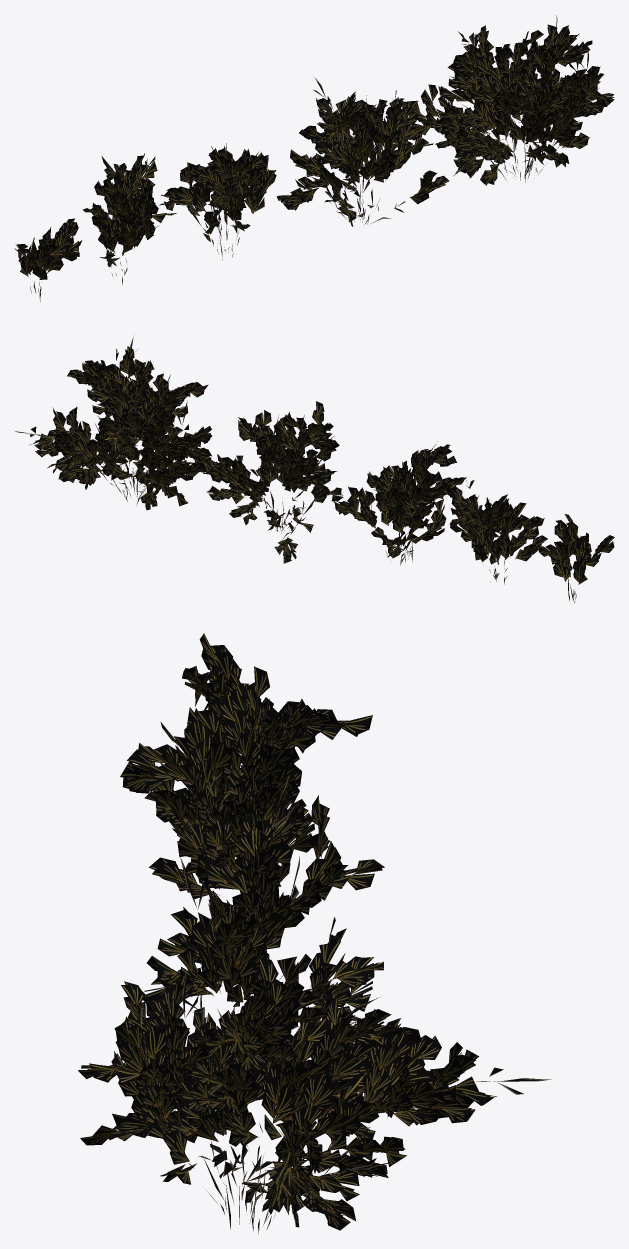
Rendered from wild_rooibos_bush.fbx.
3 renders of one model, top to bottom at view 1: azimuth 30°, elevation 25°; view 2: azimuth 150°, elevation 25°; view 3: azimuth 270°, elevation 25°, orthographic. The views are drawn at different scales.
Visible parts, largest first — view 1: wild_rooibos_bush; view 2: wild_rooibos_bush; view 3: wild_rooibos_bush.
Part boxes in pixels (x1,y1,x2,y2): wild_rooibos_bush: [14, 15, 614, 302]; wild_rooibos_bush: [15, 337, 614, 603]; wild_rooibos_bush: [78, 633, 551, 1234].
Size of the model in its own units: 227 by 54.39 by 84.33.
3 materials, 3 textured.
